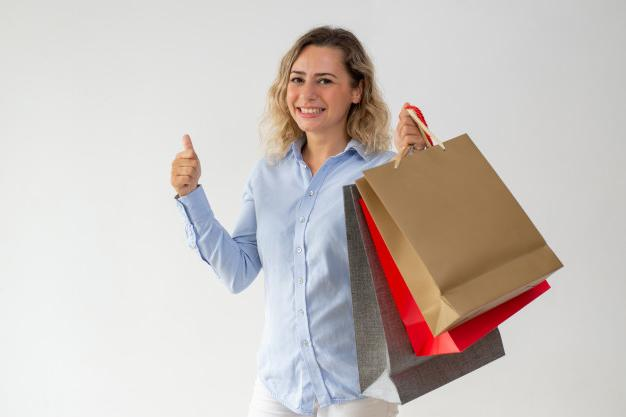thumbsup: (170, 132, 201, 188)
